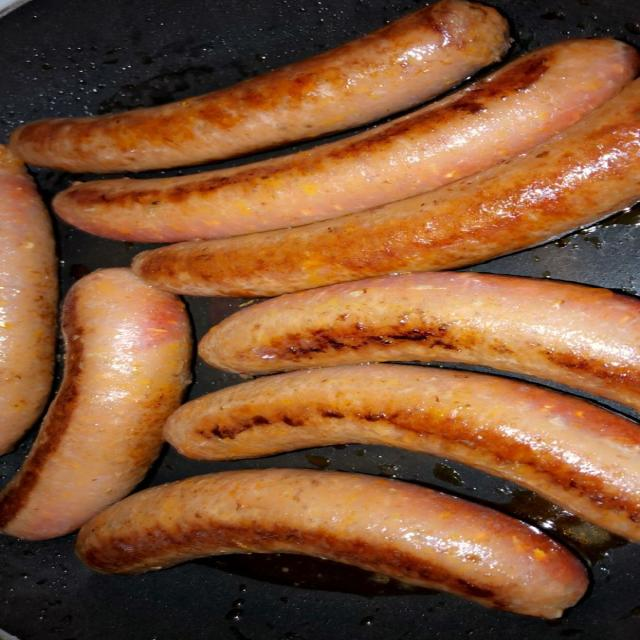sausage: (55, 40, 639, 242), (134, 80, 639, 296), (11, 0, 509, 172), (165, 365, 639, 541), (76, 469, 587, 618), (200, 272, 639, 410), (0, 269, 191, 539), (0, 146, 57, 454)
